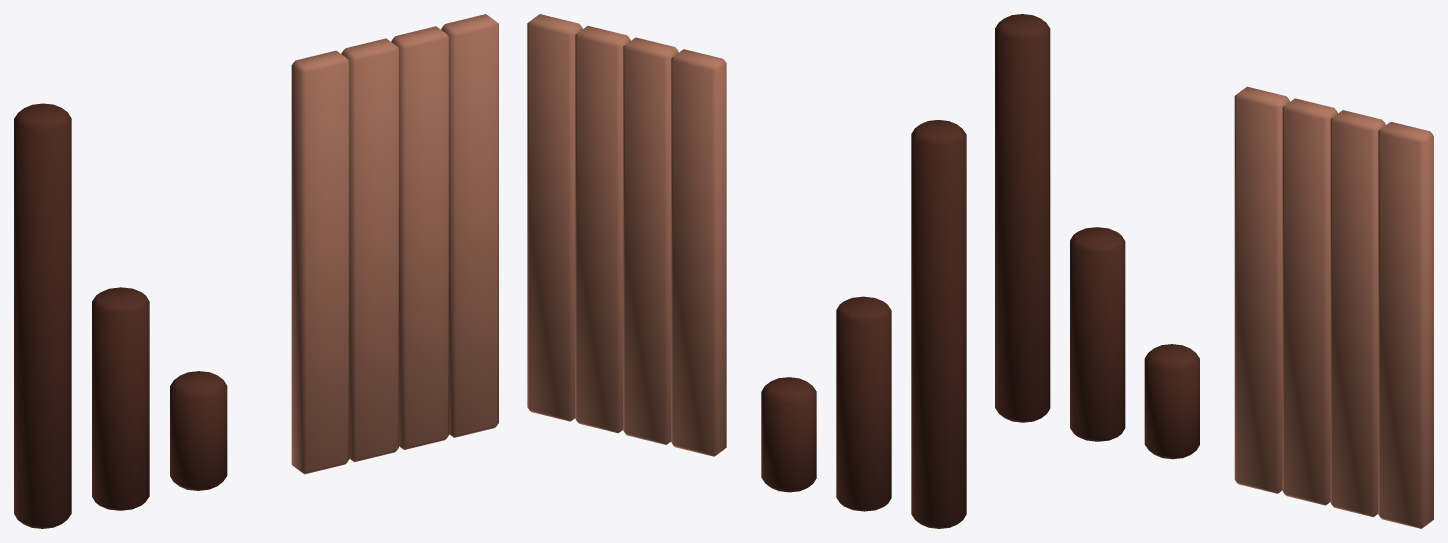
The model's file is Puente.fbx.
3 renders of one model, left to right at view 1: azimuth 30°, elevation 25°; view 2: azimuth 150°, elevation 25°; view 3: azimuth 330°, elevation 25°, orthographic. The views are drawn at different scales.
Visible parts, largest first — view 1: Tablon, Poste_largo, Poste_medio, Poste_corto; view 2: Tablon, Poste_largo, Poste_medio, Poste_corto; view 3: Tablon, Poste_largo, Poste_medio, Poste_corto.
Part boxes in pixels (x1,y1,x2,y2): Tablon: (291, 14, 498, 474); Poste_largo: (14, 103, 71, 528); Poste_medio: (92, 287, 149, 510); Poste_corto: (170, 371, 227, 490); Tablon: (527, 14, 726, 456); Poste_largo: (911, 120, 966, 528); Poste_medio: (836, 296, 891, 511); Poste_corto: (761, 377, 816, 492); Tablon: (1234, 86, 1433, 528); Poste_largo: (995, 14, 1050, 422); Poste_medio: (1070, 227, 1125, 441); Poste_corto: (1144, 344, 1199, 459).
Bounding box in the file's own units: 238 × 200 × 31.
